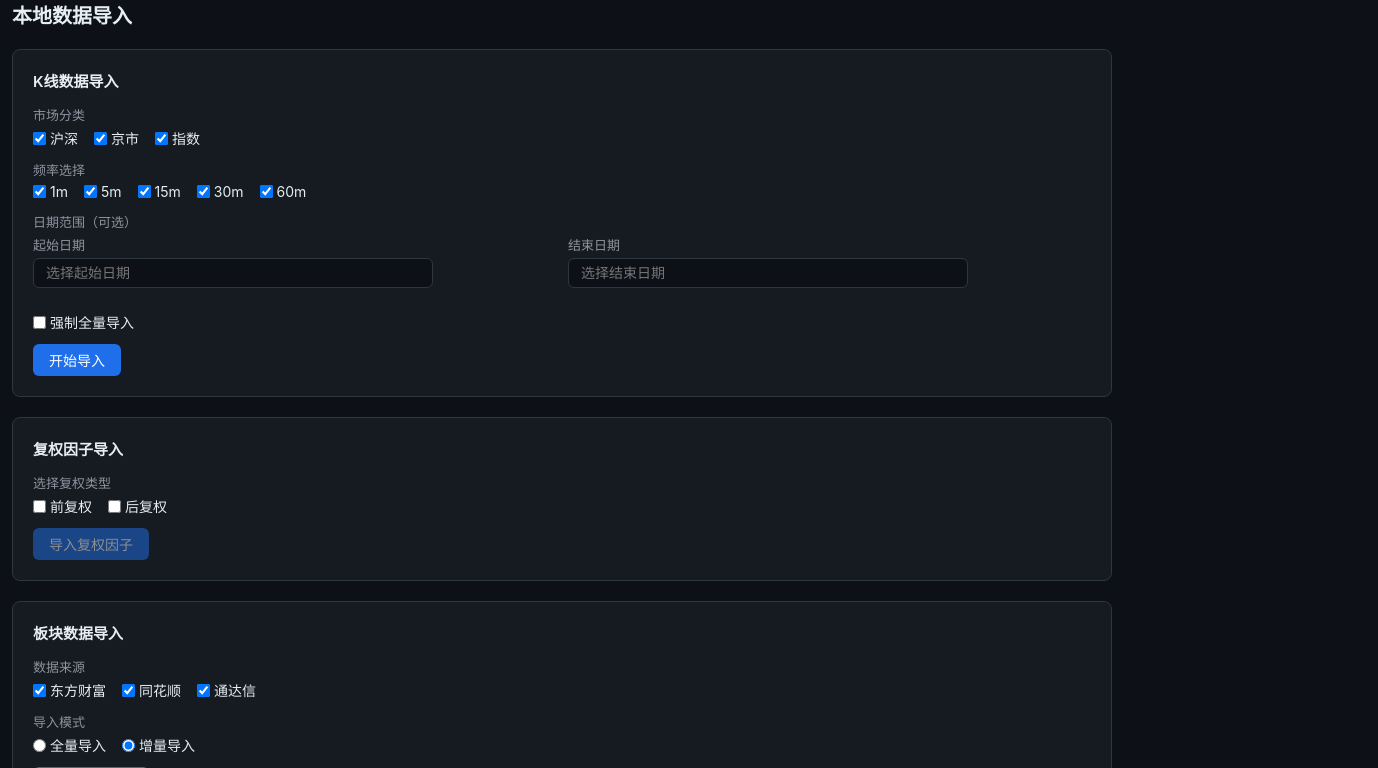
Test case: LocalImportView › 后端返回409时显示已有任务运行提示
Click the button with aria-label "开始导入" at (77,360), box [33,344,121,376]
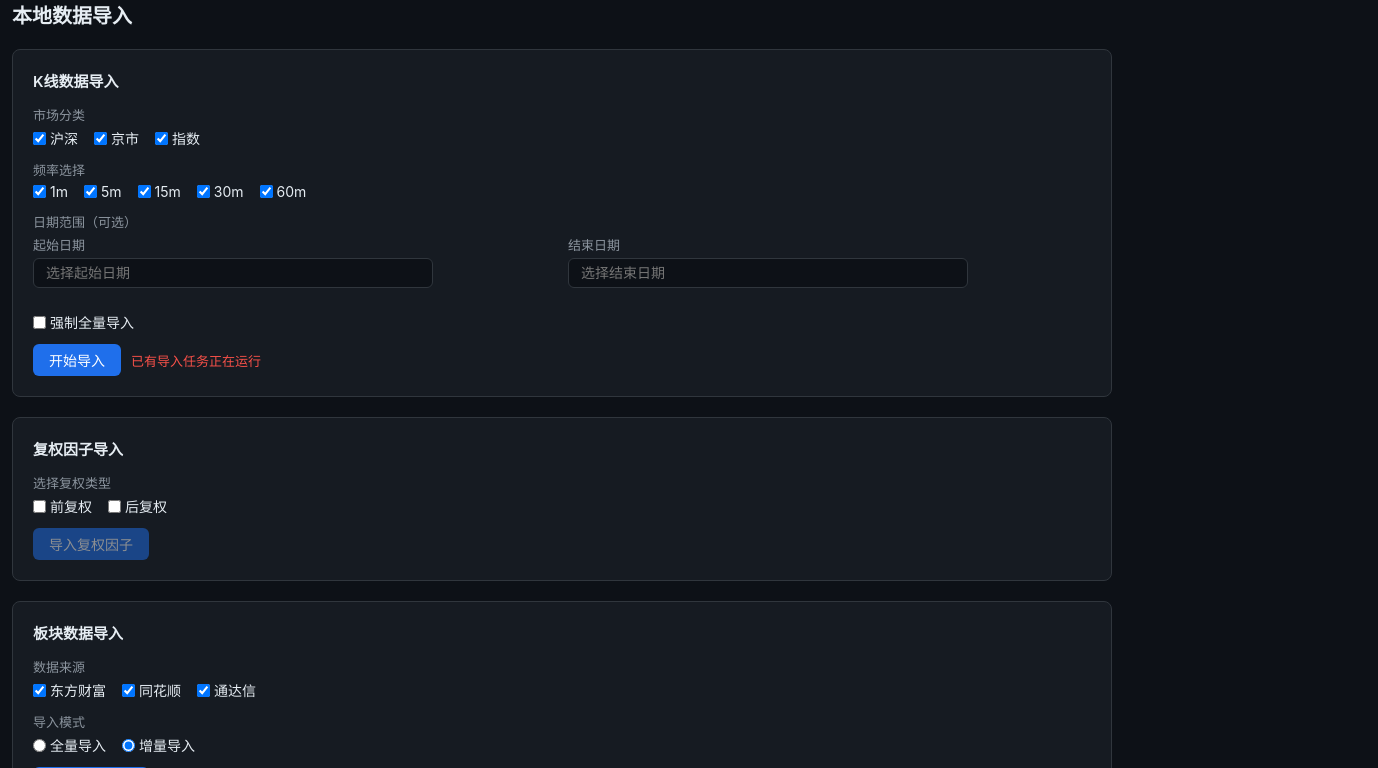
Expected: the text "已有导入任务正在运行" is shown, [131,351,261,370]
